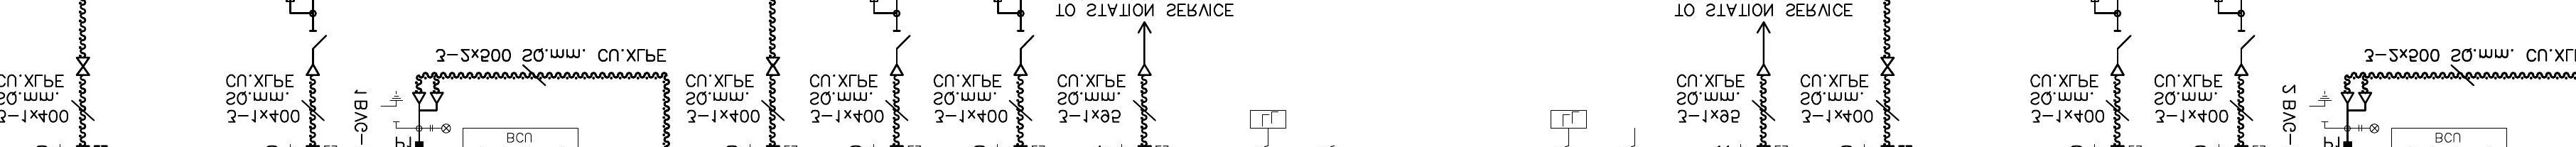22_gs: (379, 91, 404, 124), (2310, 91, 2333, 124)
22_ll: (429, 123, 452, 134), (2357, 123, 2381, 134)
LL: (1549, 109, 1589, 129), (1249, 109, 1288, 129)
terminator_double: (411, 91, 445, 113), (2339, 91, 2372, 113)
terminator_single: (2233, 64, 2249, 77), (2109, 64, 2126, 77), (1756, 64, 1773, 77), (1137, 64, 1153, 77), (1012, 64, 1028, 77), (889, 64, 905, 77), (306, 64, 320, 77)
terminator_splicing_kits: (1879, 56, 1894, 77), (76, 57, 90, 77), (766, 57, 780, 77)
